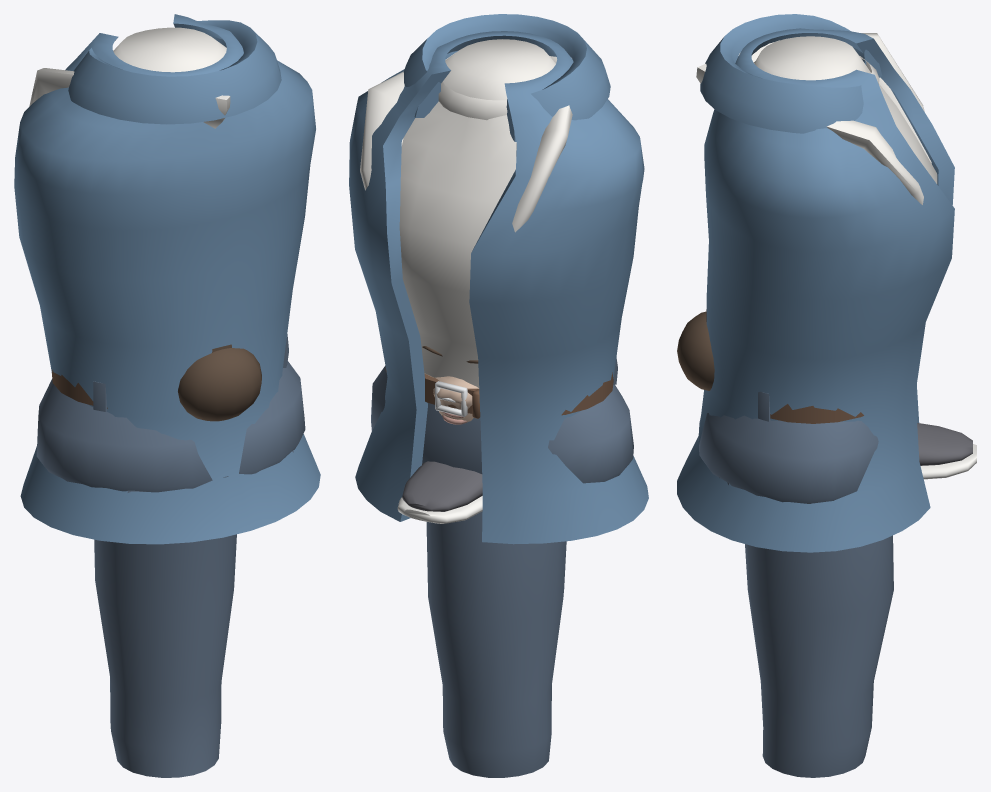
File: Character_ElderFemale.fbx
The picture shows the model from 3 angles, left to right: view 1: azimuth 30°, elevation 25°; view 2: azimuth 150°, elevation 25°; view 3: azimuth 270°, elevation 25°; orthographic projection. The views are drawn at different scales.
Parts seen in each view (by area): view 1: Part_Chest, Part_L_Thigh, Part_Pelvis, Part_Head; view 2: Part_Chest, Part_L_Thigh, Part_Pelvis, Part_L_Foot, Part_Head; view 3: Part_Chest, Part_L_Thigh, Part_Pelvis, Part_L_Foot, Part_Head.
Boxes of the visible parts, bbox=[...] form: Part_Chest: bbox=[14, 14, 320, 544]; Part_L_Thigh: bbox=[94, 534, 236, 777]; Part_Pelvis: bbox=[36, 334, 305, 492]; Part_Head: bbox=[178, 344, 261, 421]; Part_Chest: bbox=[349, 14, 648, 544]; Part_L_Thigh: bbox=[426, 511, 566, 777]; Part_Pelvis: bbox=[371, 357, 633, 483]; Part_L_Foot: bbox=[397, 461, 482, 523]; Part_Head: bbox=[422, 346, 478, 424]; Part_Chest: bbox=[677, 14, 954, 552]; Part_L_Thigh: bbox=[745, 535, 893, 777]; Part_Pelvis: bbox=[698, 391, 878, 503]; Part_L_Foot: bbox=[917, 423, 976, 479]; Part_Head: bbox=[677, 309, 714, 390].
Size of the model in its own units: 0.3917 by 0.972 by 0.3721.
